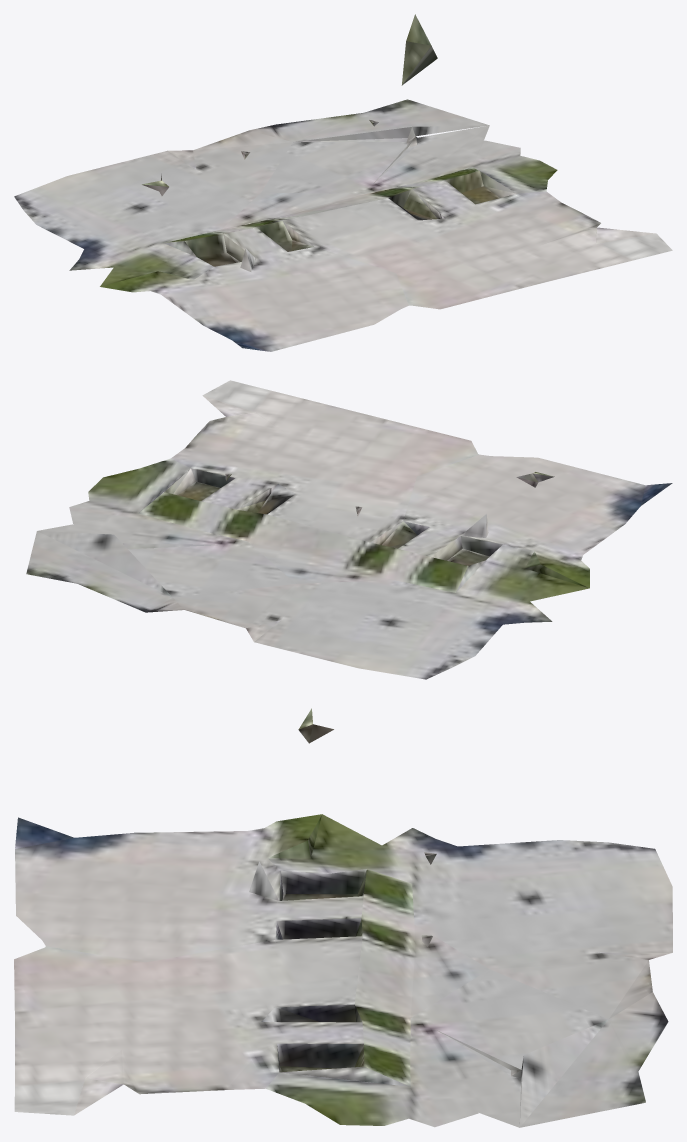
The model's file is Tile_+003_+000_L16_0.glb.
3 views of the same model, one above another, from view 1: azimuth 30°, elevation 25°; view 2: azimuth 150°, elevation 25°; view 3: azimuth 270°, elevation 25° (orthographic). The views are drawn at different scales.
Visible parts, largest first — view 1: rtc; view 2: rtc; view 3: rtc.
Boxes of the visible parts, x1=… form: rtc: x1=14, y1=14, x2=672, y2=351; rtc: x1=26, y1=380, x2=672, y2=679; rtc: x1=14, y1=708, x2=672, y2=1127.
Bounding box in the file's own units: 61 × 13.1 × 54.78.
Materials: 1 (1 with a texture image).
